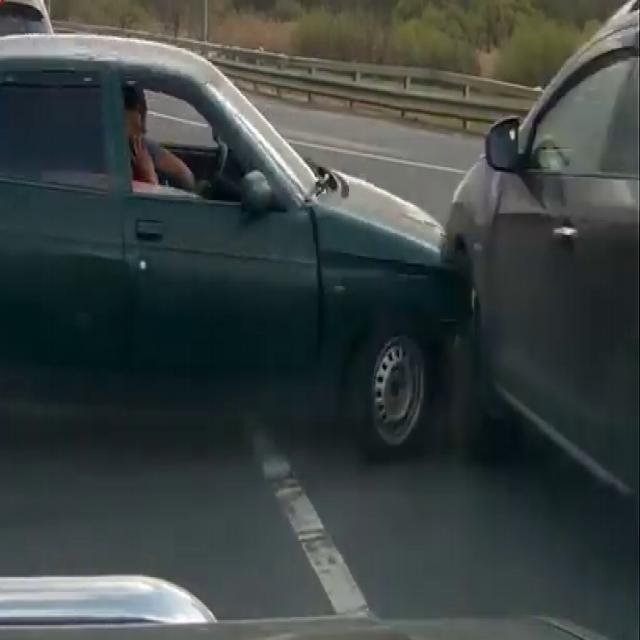accident: (227, 30, 618, 492)
